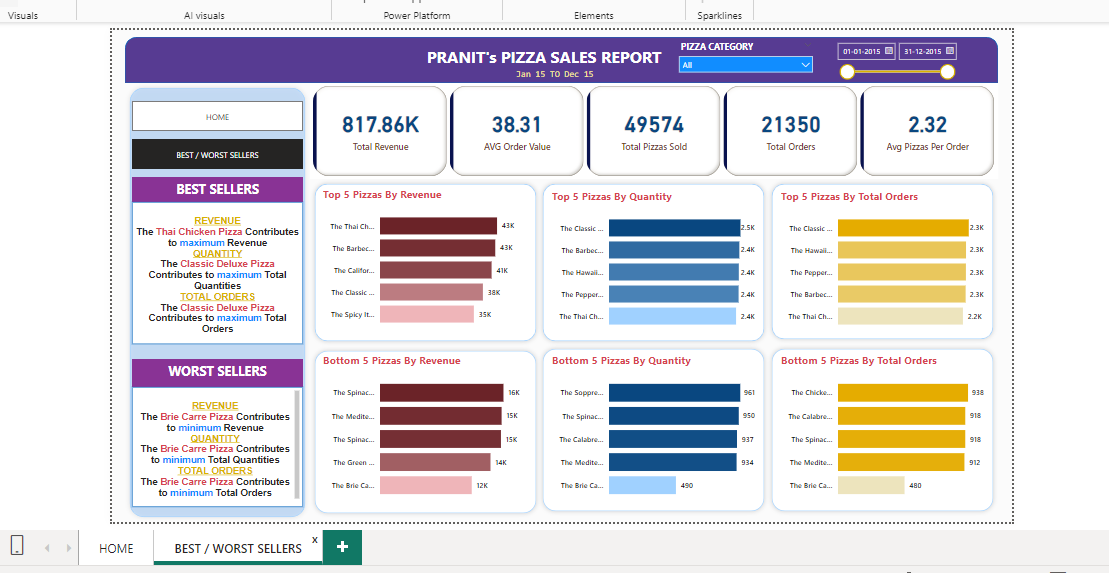

Layout of this report page (visuals, bound fields, positions):
{"tool":"powerbi","page":{"name":"BEST / WORST SELLERS","canvas":[1500,820],"ordinal":1},"visuals":[{"type":"shape","box":[21.7,88.3,308.3,731.7],"z":0},{"type":"cardVisual","fields":{"Data":["pizza_sales.Total Revenue","pizza_sales.AVG Order Value","pizza_sales.Total Pizzas Sold","pizza_sales.Total Orders","pizza_sales.Avg Pizzas Per Order"]},"box":[330,88.3,1146.7,160],"z":1000},{"type":"shape","box":[21.7,11.7,1455,76.7],"z":2000},{"type":"textbox","box":[478.3,21.7,483.3,56.7],"z":3000},{"type":"textbox","box":[668.3,60,168.3,28.3],"z":4000},{"type":"shape","box":[330,248.3,385,278.3],"z":5000},{"type":"textbox","box":[33.3,245,285,41.7],"z":15000},{"type":"textbox","box":[33.3,286.7,285,236.7],"z":16000},{"type":"textbox","box":[33.3,548.3,285,46.7],"z":17000},{"type":"textbox","box":[33.3,595,285,200],"z":18000},{"type":"slicer","fields":{"Values":["pizza_sales.pizza_category"]},"box":[935,11.7,243.3,70],"z":19000},{"type":"slicer","fields":{"Values":["pizza_sales.order_date"]},"box":[1196.7,11.7,216.7,76.7],"z":20000},{"type":"shape","box":[710,248.3,385,278.3],"z":20001},{"type":"shape","box":[1091.7,248.3,385,275],"z":20002},{"type":"shape","box":[330,526.7,385,286.7],"z":20003},{"type":"shape","box":[710,523.3,385,286.7],"z":20004},{"type":"shape","box":[1091.7,523.3,385,286.7],"z":20005},{"type":"barChart","title":"Top 5 Pizzas By Revenue","fields":{"Category":["pizza_sales.pizza_name"],"Y":["pizza_sales.Total Revenue"]},"box":[346.7,261.7,350,246.7],"z":20006},{"type":"barChart","title":"Bottom 5 Pizzas By Revenue","fields":{"Category":["pizza_sales.pizza_name"],"Y":["pizza_sales.Total Revenue"]},"box":[346.7,538.3,350,256.7],"z":20007},{"type":"barChart","title":"Top 5 Pizzas By Quantity","fields":{"Category":["pizza_sales.pizza_name"],"Y":["pizza_sales.Total Pizzas Sold"]},"box":[728.3,265,348.3,246.7],"z":20008},{"type":"barChart","title":"Bottom 5 Pizzas By Quantity","fields":{"Category":["pizza_sales.pizza_name"],"Y":["pizza_sales.Total Pizzas Sold"]},"box":[728.3,538.3,348.3,256.7],"z":20009},{"type":"barChart","title":"Top 5 Pizzas By Total Orders","fields":{"Category":["pizza_sales.pizza_name"],"Y":["pizza_sales.Total Orders"]},"box":[1110,265,348.3,246.7],"z":20010},{"type":"barChart","title":"Bottom 5 Pizzas By Total Orders","fields":{"Category":["pizza_sales.pizza_name"],"Y":["pizza_sales.Total Orders"]},"box":[1110,538.3,348.3,256.7],"z":20011},{"type":"pageNavigator","box":[33.3,118.3,285,50],"z":20012},{"type":"pageNavigator","box":[33.3,181.7,285,50],"z":20013}]}

Visuals, with their boxes on the page's 1500x820 design canvas (x1, y1, x2, y2). These are canvas units, not pixel positions in the 1109x573 screenshot, which may show the page scaled, cropped or inside an application window:
shape: [x1=22, y1=88, x2=330, y2=820]
cardVisual - pizza_sales.Total Revenue x pizza_sales.AVG Order Value: [x1=330, y1=88, x2=1477, y2=248]
shape: [x1=22, y1=12, x2=1477, y2=88]
textbox: [x1=478, y1=22, x2=962, y2=78]
textbox: [x1=668, y1=60, x2=837, y2=88]
shape: [x1=330, y1=248, x2=715, y2=527]
textbox: [x1=33, y1=245, x2=318, y2=287]
textbox: [x1=33, y1=287, x2=318, y2=523]
textbox: [x1=33, y1=548, x2=318, y2=595]
textbox: [x1=33, y1=595, x2=318, y2=795]
slicer - pizza_sales.pizza_category: [x1=935, y1=12, x2=1178, y2=82]
slicer - pizza_sales.order_date: [x1=1197, y1=12, x2=1413, y2=88]
shape: [x1=710, y1=248, x2=1095, y2=527]
shape: [x1=1092, y1=248, x2=1477, y2=523]
shape: [x1=330, y1=527, x2=715, y2=813]
shape: [x1=710, y1=523, x2=1095, y2=810]
shape: [x1=1092, y1=523, x2=1477, y2=810]
"Top 5 Pizzas By Revenue" barChart: [x1=347, y1=262, x2=697, y2=508]
"Bottom 5 Pizzas By Revenue" barChart: [x1=347, y1=538, x2=697, y2=795]
"Top 5 Pizzas By Quantity" barChart: [x1=728, y1=265, x2=1077, y2=512]
"Bottom 5 Pizzas By Quantity" barChart: [x1=728, y1=538, x2=1077, y2=795]
"Top 5 Pizzas By Total Orders" barChart: [x1=1110, y1=265, x2=1458, y2=512]
"Bottom 5 Pizzas By Total Orders" barChart: [x1=1110, y1=538, x2=1458, y2=795]
pageNavigator: [x1=33, y1=118, x2=318, y2=168]
pageNavigator: [x1=33, y1=182, x2=318, y2=232]
